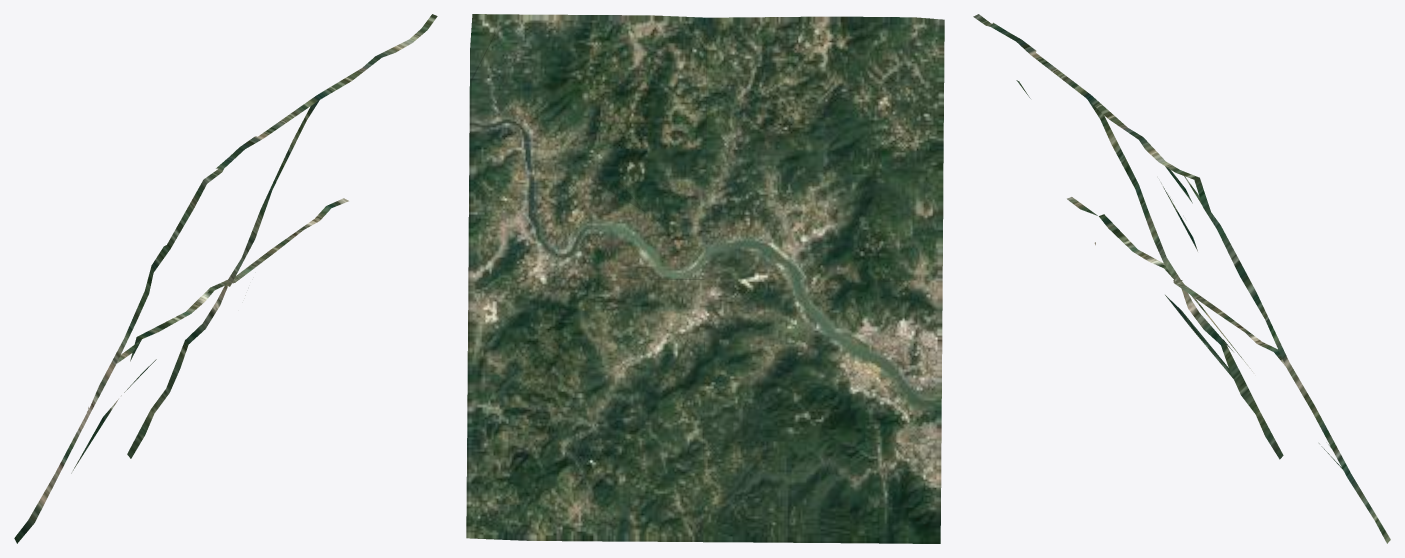
3 views of the same model, side by side, from view 1: azimuth 30°, elevation 25°; view 2: azimuth 150°, elevation 25°; view 3: azimuth 270°, elevation 25° (orthographic). The views are drawn at different scales.
Bounding box in the file's own units: 39344 × 35803 × 32809.
Materials: 1 (1 with a texture image).
